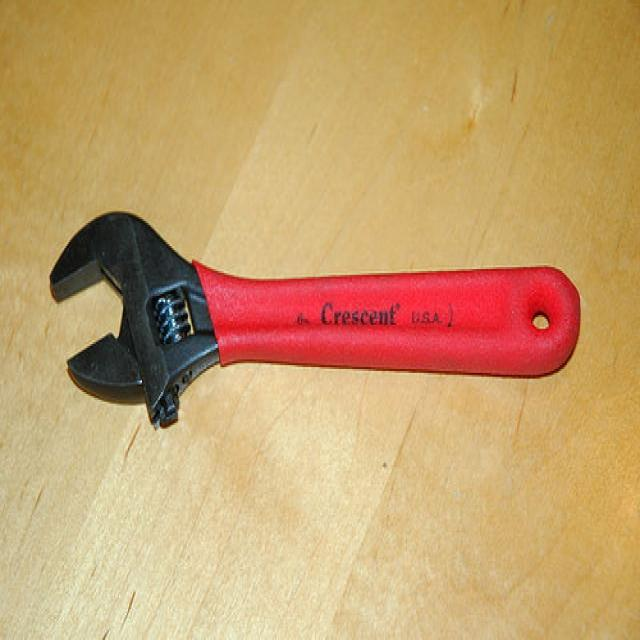wrench: (35, 196, 588, 454)
